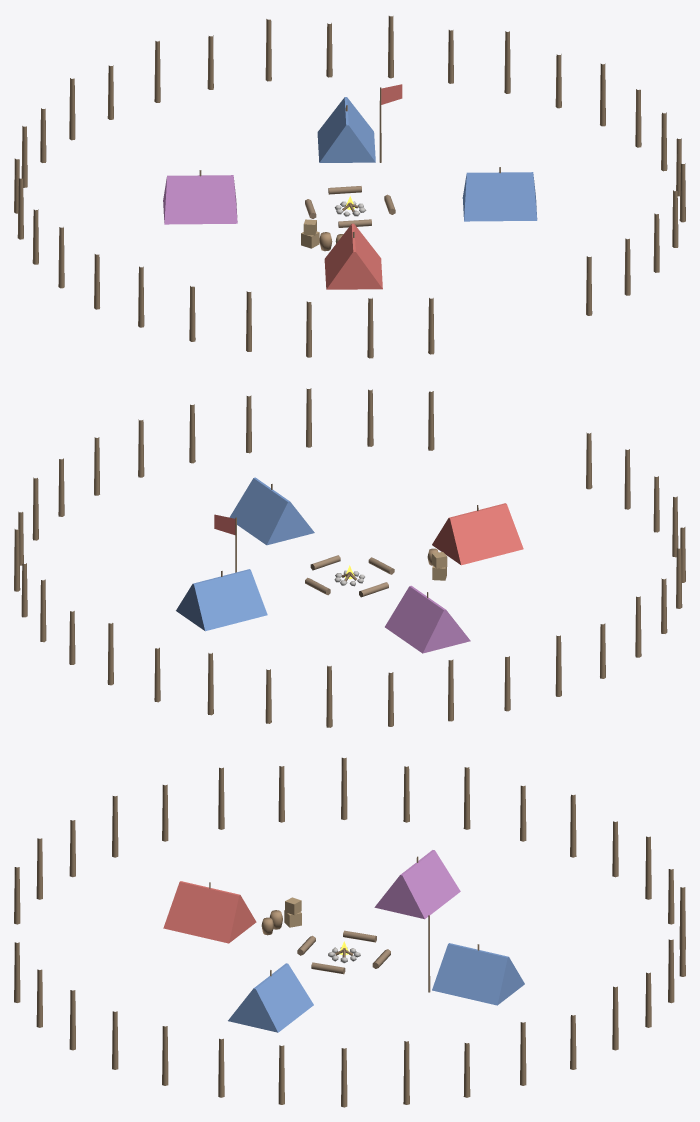
The model's file is struct_12_13.glb.
3 views of the same model, one above another, from view 1: azimuth 30°, elevation 25°; view 2: azimuth 150°, elevation 25°; view 3: azimuth 270°, elevation 25° (orthographic). The views are drawn at different scales.
Parts seen in each view (by area): view 1: Landmarks; view 2: Landmarks; view 3: Landmarks.
Part boxes in pixels (x1,y1,x2,y2): Landmarks: (14,16,685,358); Landmarks: (14,388,685,727); Landmarks: (14,757,685,1107).
Bounding box in the file's own units: 40.36 × 5.4 × 39.53.
